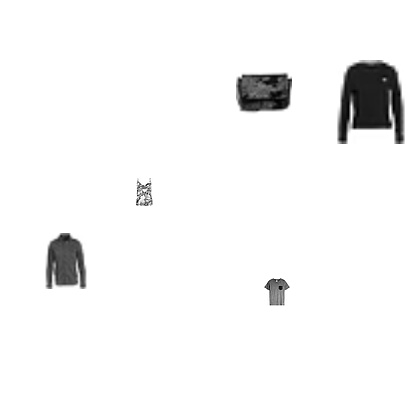Bag: (236, 65, 292, 121)
Pullover: (329, 60, 413, 144)
Shirt: (38, 233, 94, 289)
T-shirt/top: (130, 178, 158, 206), (263, 278, 291, 306)
